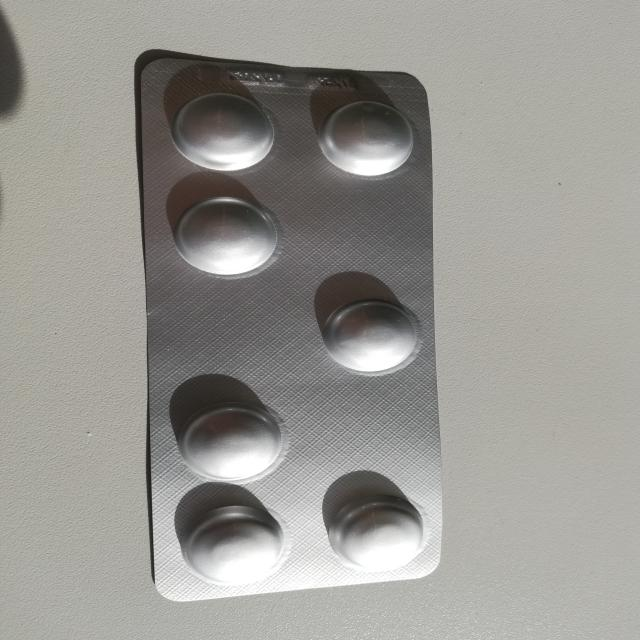Pill: (161, 192, 293, 282), (166, 404, 294, 489), (160, 85, 284, 169), (311, 297, 433, 378), (307, 93, 417, 181), (176, 510, 285, 586), (326, 500, 422, 572)
